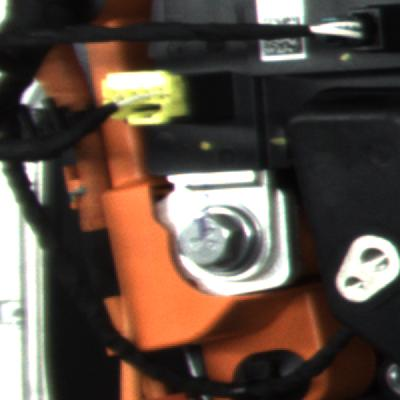nut_b: (163, 197, 281, 290)
